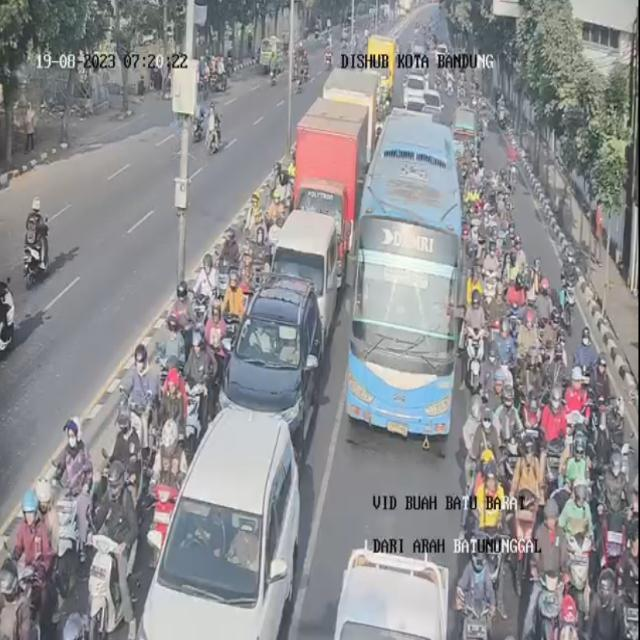bunch of motorcycle: (468, 386, 628, 640), (466, 240, 553, 381), (465, 171, 510, 243)
bus: (347, 108, 463, 436)
cars: (137, 407, 300, 639), (221, 272, 323, 460), (294, 97, 369, 273), (335, 548, 449, 639), (273, 209, 337, 339)
motorcycle: (92, 457, 138, 640), (51, 415, 96, 575), (18, 493, 59, 634), (175, 289, 210, 437), (106, 407, 142, 549), (149, 414, 187, 542), (122, 350, 155, 482), (157, 364, 192, 470), (202, 287, 226, 394), (218, 227, 245, 299), (220, 268, 242, 346), (248, 224, 268, 287), (248, 195, 263, 247), (267, 191, 284, 235)
